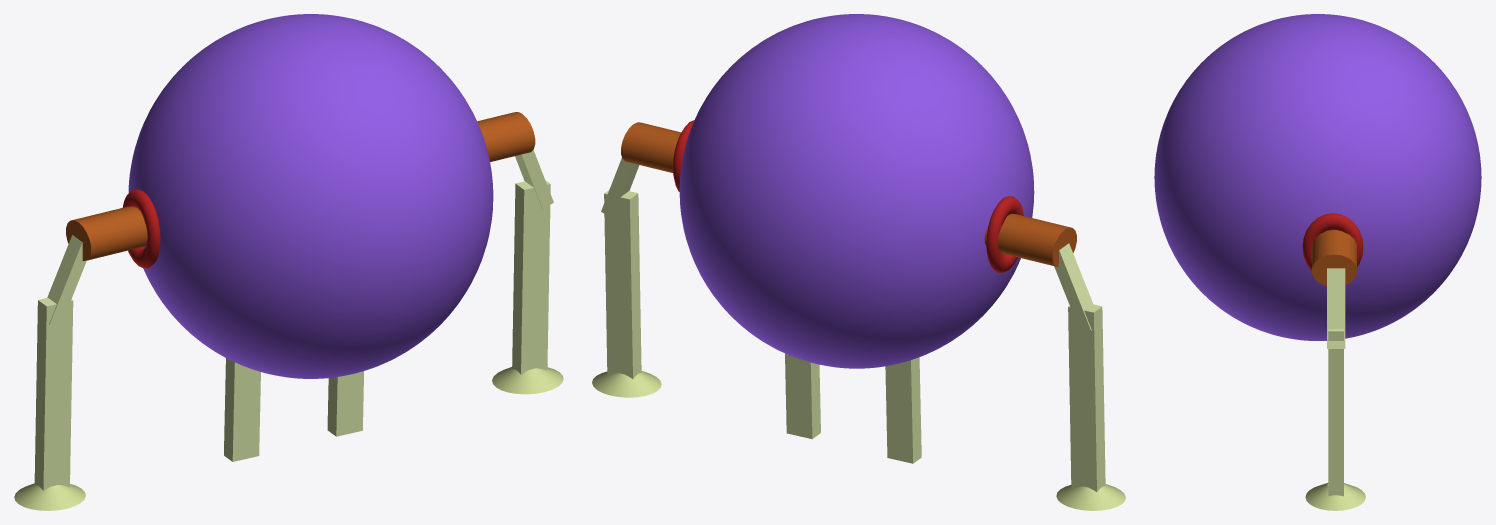
The model's file is Robot.obj.
The picture shows the model from 3 angles, left to right: view 1: azimuth 30°, elevation 25°; view 2: azimuth 150°, elevation 25°; view 3: azimuth 270°, elevation 25°; orthographic projection. The views are drawn at different scales.
Visible parts, largest first — view 1: Sphere001, Box004, Box003, Box006, Cylinder001, Box007, Cylinder002, Box001, Torus001, Cone002, Cone001, Box002; view 2: Sphere001, Box004, Box003, Box006, Cylinder001, Box007, Cylinder002, Box001, Cone002, Cone001, Torus001, Box002; view 3: Sphere001, Box004, Cylinder002, Box002, Torus002, Cone002.
Boxes of the visible parts, box(x1,y1,x2,y2) form: Sphere001: box(128, 14, 493, 378); Box004: box(512, 180, 550, 374); Box003: box(34, 298, 73, 490); Box006: box(224, 358, 260, 461); Cylinder001: box(66, 206, 147, 260); Box007: box(327, 371, 363, 436); Cylinder002: box(477, 112, 535, 161); Box001: box(47, 235, 86, 327); Torus001: box(122, 189, 160, 268); Cone002: box(492, 367, 563, 394); Cone001: box(14, 483, 85, 510); Box002: box(515, 150, 553, 209); Sphere001: box(679, 14, 1034, 368); Box004: box(604, 190, 641, 378); Box003: box(1068, 304, 1105, 492); Box006: box(885, 357, 921, 463); Cylinder001: box(984, 213, 1076, 266); Box007: box(785, 353, 820, 439); Cylinder002: box(621, 122, 681, 172); Box001: box(1054, 243, 1092, 332); Cone002: box(592, 371, 661, 397); Cone001: box(1056, 484, 1125, 510); Torus001: box(986, 196, 1023, 272); Box002: box(601, 158, 639, 218); Sphere001: box(1154, 14, 1481, 340); Box004: box(1328, 329, 1343, 496); Cylinder002: box(1312, 230, 1356, 286); Box002: box(1327, 268, 1345, 348); Torus002: box(1302, 213, 1363, 270); Cone002: box(1305, 483, 1365, 510).
Bounding box in the file's own units: 79.31 × 58.54 × 46.34.
